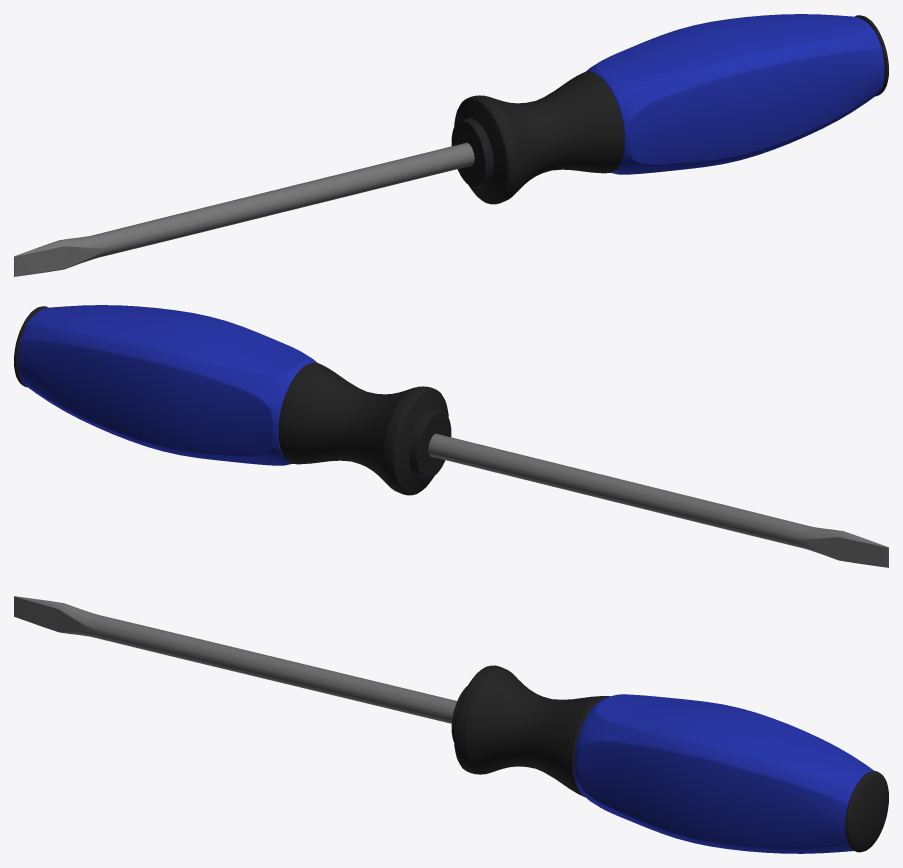
Rendered from tool.glb.
The picture shows the model from 3 angles, top to bottom: view 1: azimuth 30°, elevation 25°; view 2: azimuth 150°, elevation 25°; view 3: azimuth 330°, elevation 25°; orthographic projection.
Visible parts, largest first — view 1: node_id82; view 2: node_id82; view 3: node_id82.
Boxes of the visible parts, box(x1,y1,x2,y2) form: node_id82: box(14, 14, 888, 276); node_id82: box(14, 305, 888, 567); node_id82: box(14, 596, 888, 853).
Size of the model in its own units: 0.6099 by 0.0753 by 0.0753.
